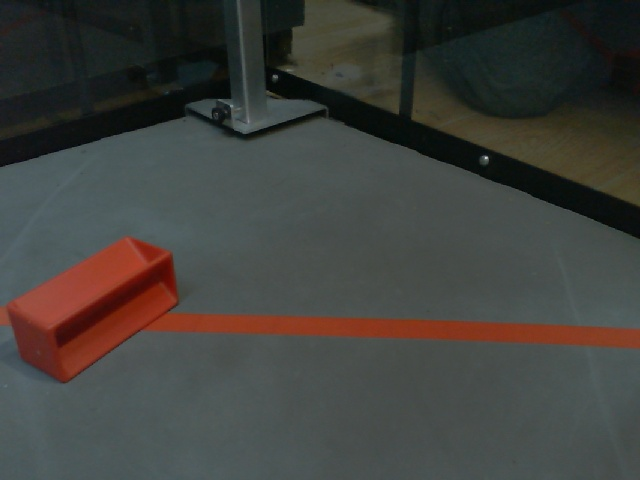RedSample: (9, 236, 181, 384)
